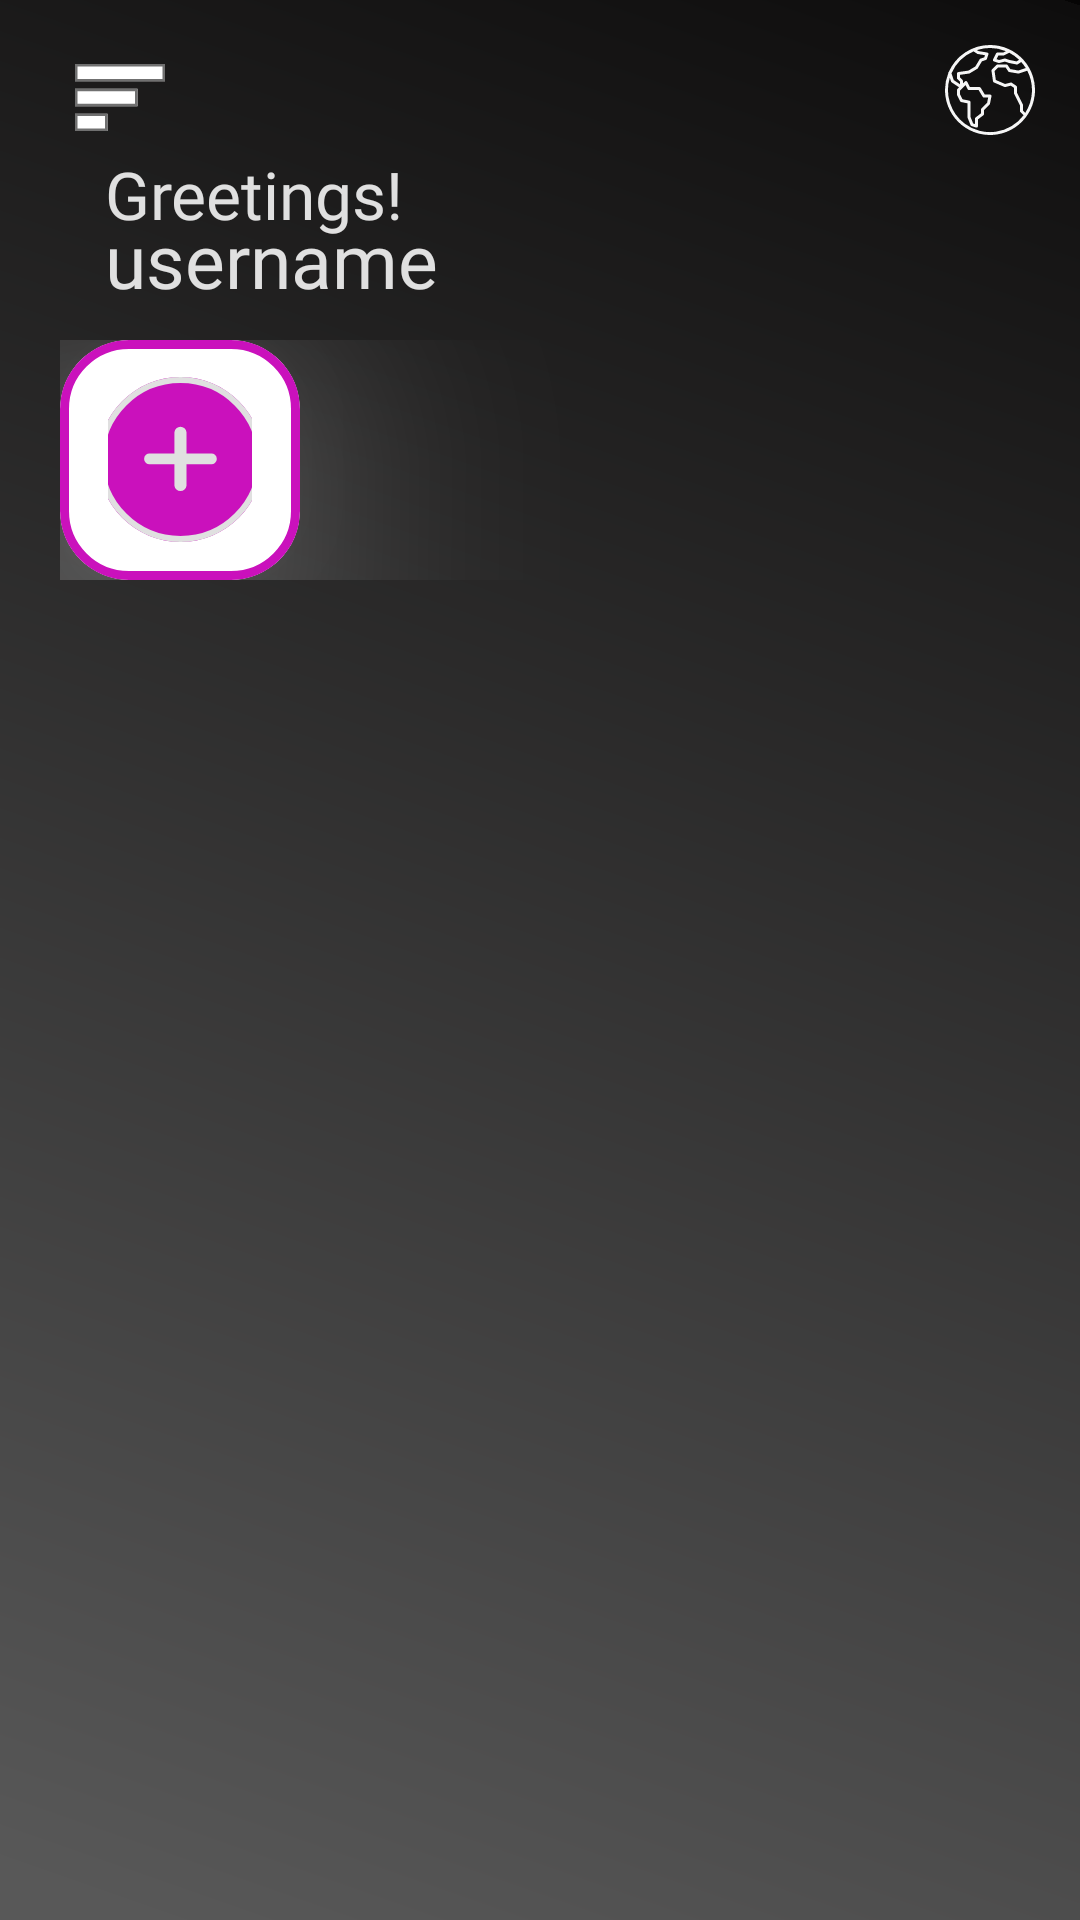

Screen size 1080×1920. Icon name, then its box in pixels as {"x1": x1, "y1": y1, "x2": x2, "y2": y2}:
addbutton: {"x1": 108, "y1": 377, "x2": 252, "y2": 542}
menubar: {"x1": 75, "y1": 64, "x2": 165, "y2": 131}
worldwide: {"x1": 945, "y1": 45, "x2": 1035, "y2": 135}
